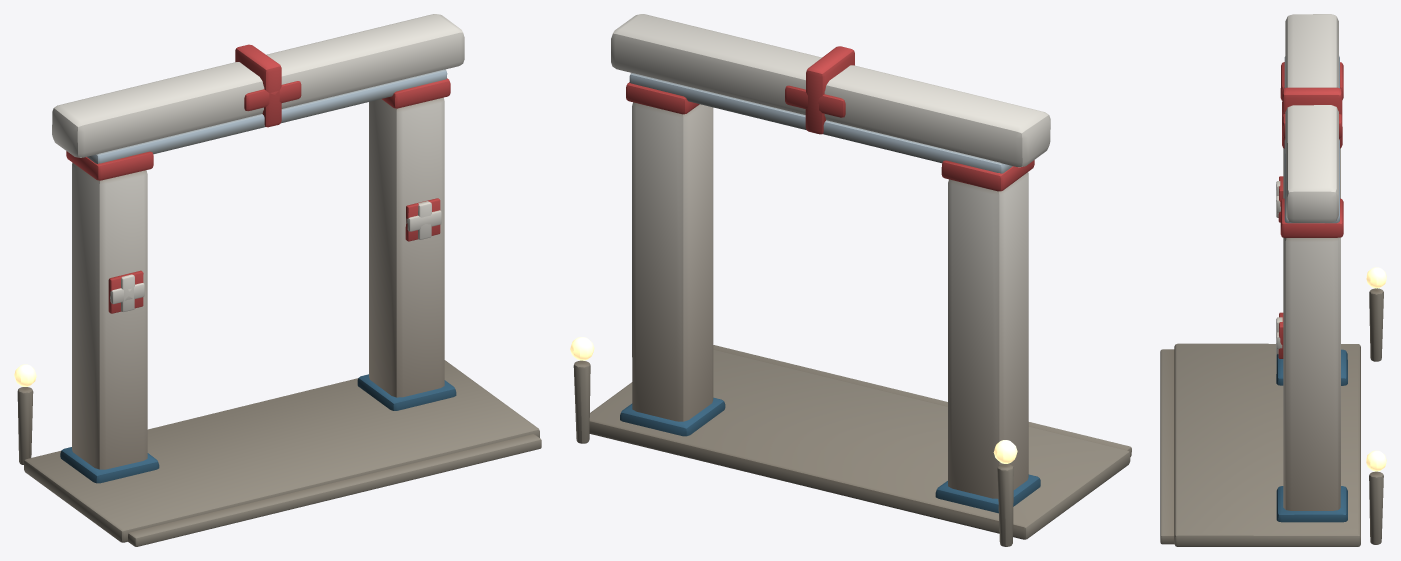
The picture shows the model from 3 angles, left to right: view 1: azimuth 30°, elevation 25°; view 2: azimuth 150°, elevation 25°; view 3: azimuth 270°, elevation 25°; orthographic projection. The views are drawn at different scales.
Parts seen in each view (by area): view 1: gate_9b1f0b83; view 2: gate_9b1f0b83; view 3: gate_9b1f0b83.
Part boxes in pixels (x1,y1,x2,y2): gate_9b1f0b83: [14, 14, 541, 546]; gate_9b1f0b83: [570, 14, 1131, 546]; gate_9b1f0b83: [1160, 14, 1386, 546].
Bounding box in the file's own units: 5.13 × 4.49 × 2.55.
